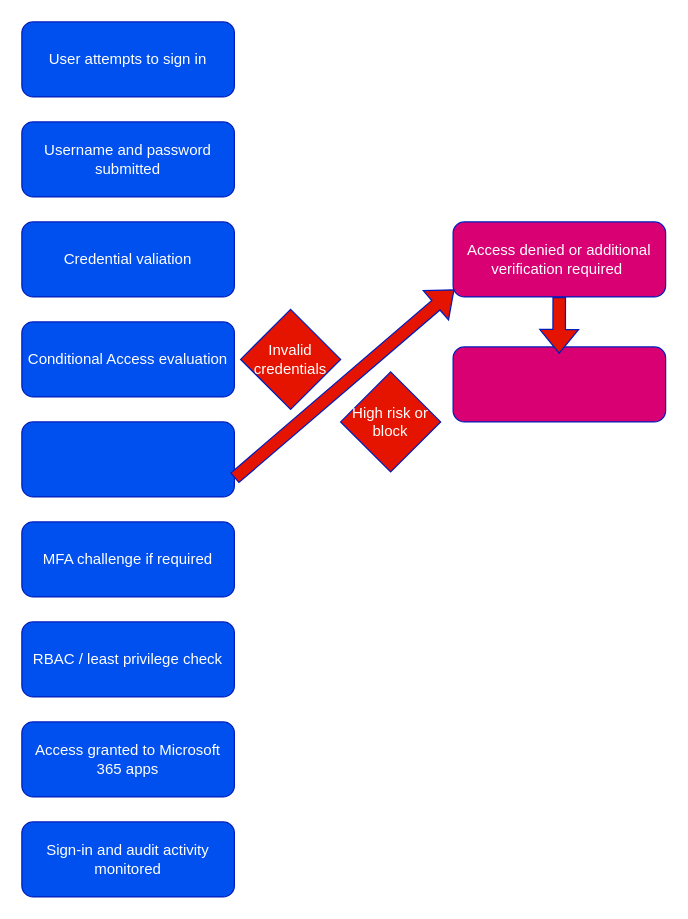
Image size: 688x919. Some labels were removed from this diagram. The centre of each missing label's shape, as x and y in pixels:
Failed sign-in logged for review: the point at 559,384
Risk, location, device, and app checks: the point at 127,459
